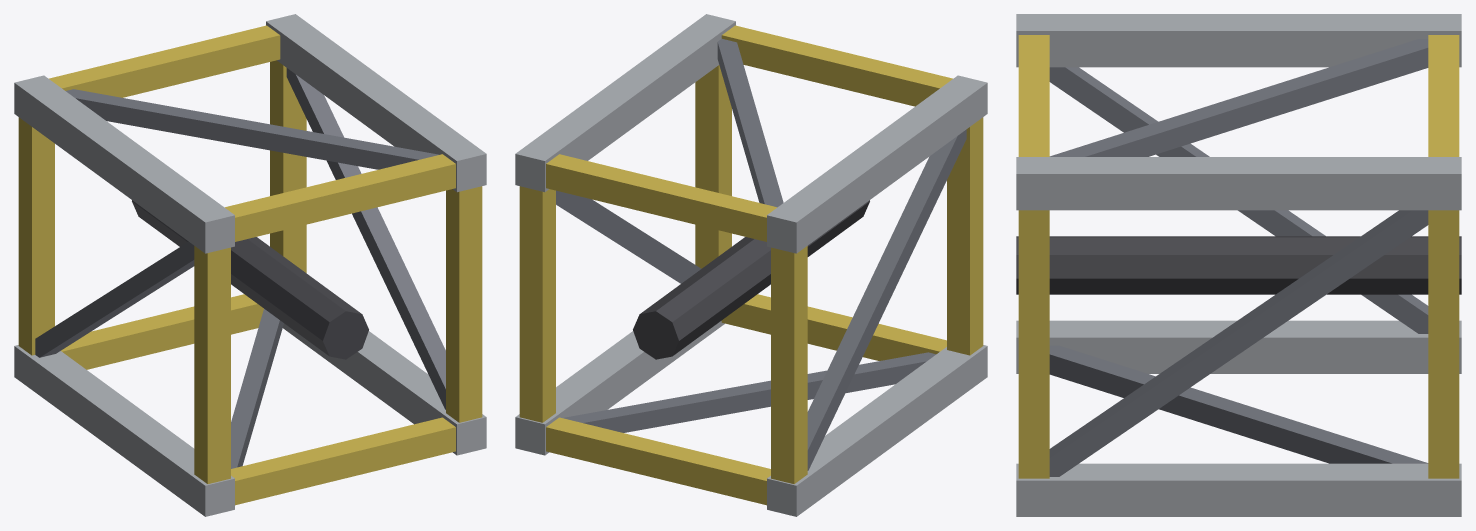
Rendered from hull_truss.glb.
3 views of the same model, side by side, from view 1: azimuth 30°, elevation 25°; view 2: azimuth 150°, elevation 25°; view 3: azimuth 270°, elevation 25° (orthographic). The views are drawn at different scales.
Size of the model in its own units: 0.85 by 0.85 by 1.
